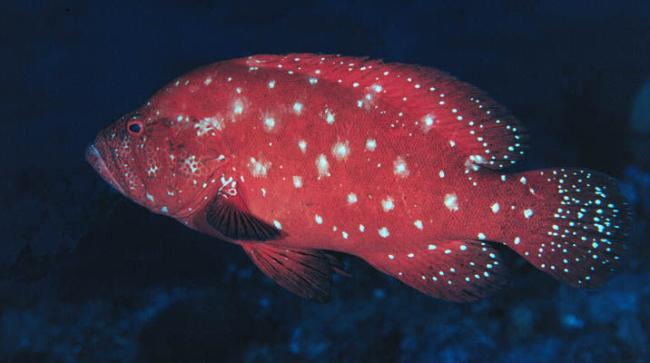fish: (89, 52, 631, 303)
